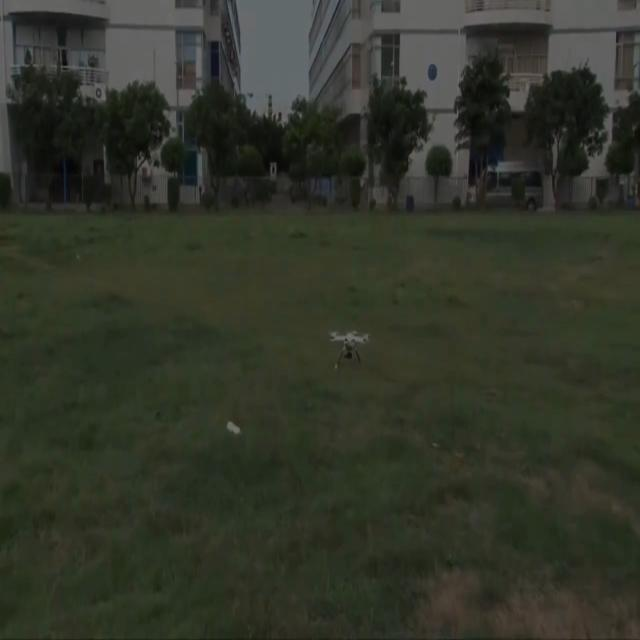drone: (328, 328, 370, 369)
